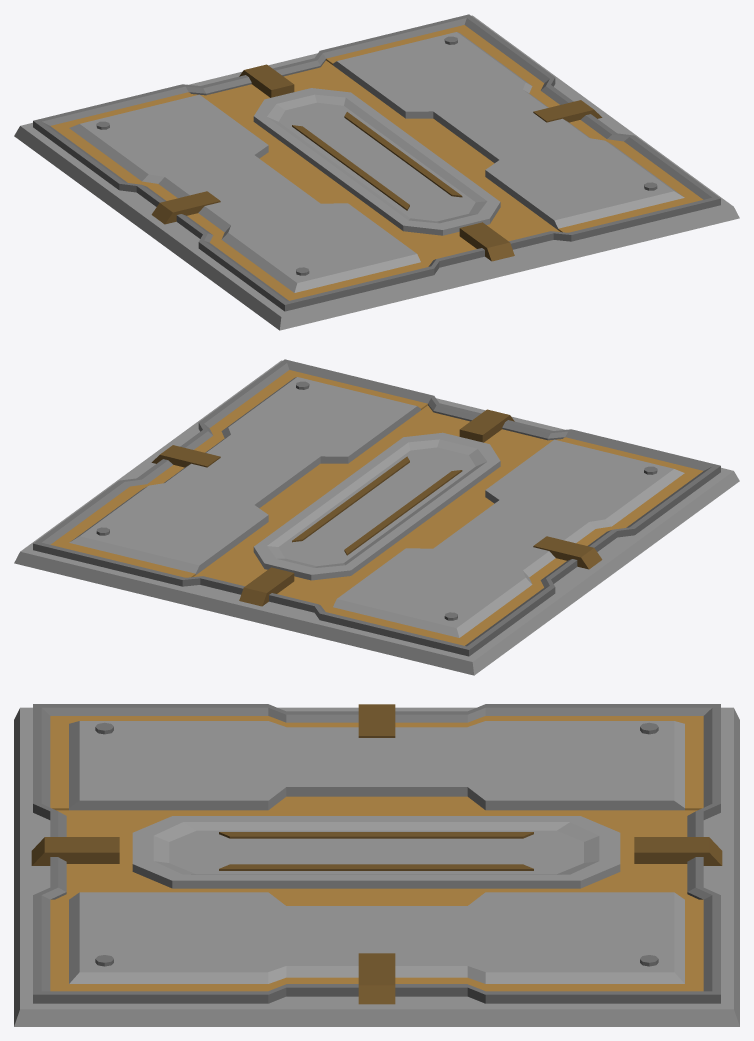
Rendered from quaternius-modular-sci-fi-floor-tile-basic-2.glb.
3 views of the same model, one above another, from view 1: azimuth 30°, elevation 25°; view 2: azimuth 150°, elevation 25°; view 3: azimuth 270°, elevation 25° (orthographic). The views are drawn at different scales.
Parts seen in each view (by area): view 1: FloorTile_Basic2; view 2: FloorTile_Basic2; view 3: FloorTile_Basic2.
Part boxes in pixels (x1,y1,x2,y2): FloorTile_Basic2: (14, 14, 739, 330); FloorTile_Basic2: (14, 359, 739, 675); FloorTile_Basic2: (14, 704, 739, 1026).
Bounding box in the file's own units: 2 × 0.0933 × 2.
